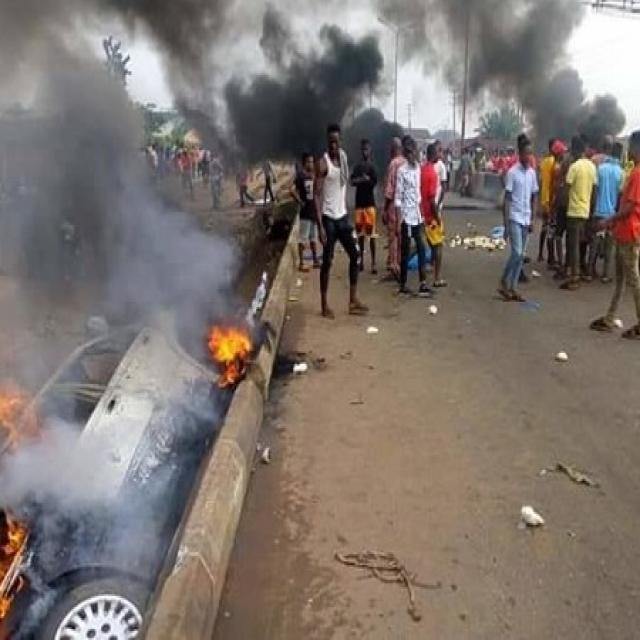Smoke: (2, 0, 210, 381), (223, 4, 588, 116)
